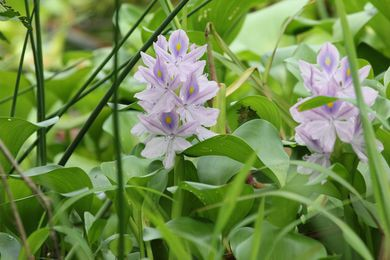water_hyacinth: (22, 21, 390, 260)
